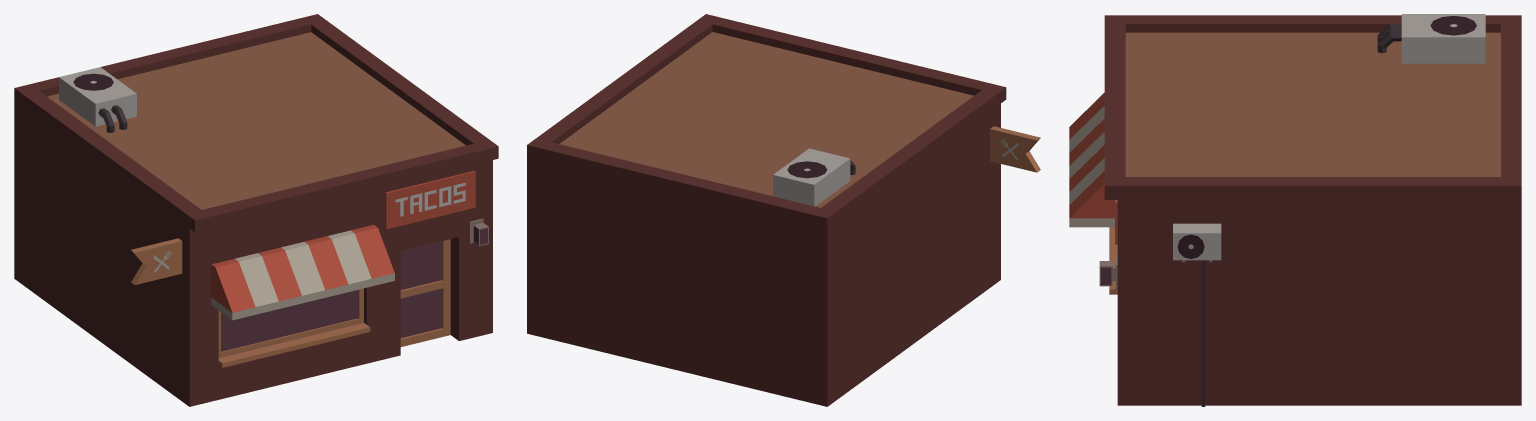
File: Building_9.fbx
3 views of the same model, side by side, from view 1: azimuth 30°, elevation 25°; view 2: azimuth 150°, elevation 25°; view 3: azimuth 270°, elevation 25° (orthographic). The views are drawn at different scales.
Visible parts, largest first — view 1: Building_9, Building_9LP; view 2: Building_9; view 3: Building_9.
Part boxes in pixels (bbox=[...]): Building_9: bbox=[14, 14, 498, 406]; Building_9LP: bbox=[153, 182, 487, 351]; Building_9: bbox=[527, 14, 1040, 406]; Building_9: bbox=[1069, 14, 1521, 406].
Size of the model in its own units: 9.48 by 5.06 by 8.75.
